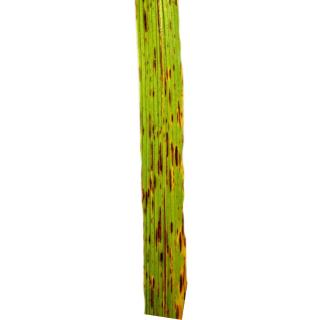Bercak-Cokelat-Sempit: (137, 6, 156, 38), (149, 46, 162, 82), (171, 142, 174, 166), (175, 146, 178, 166)
